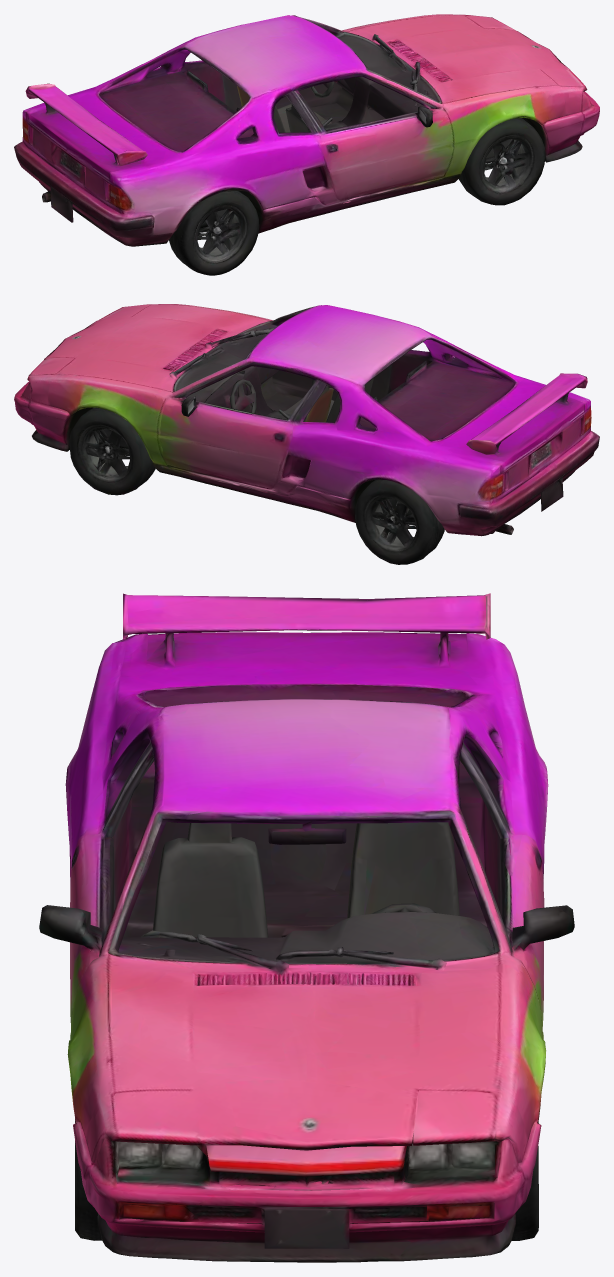
The model's file is car_pink.glb.
3 renders of one model, top to bottom at view 1: azimuth 30°, elevation 25°; view 2: azimuth 150°, elevation 25°; view 3: azimuth 270°, elevation 25°, orthographic. The views are drawn at different scales.
Parts seen in each view (by area): view 1: tripo_node_2bb15495-473c-45b3-a70c-b51d6a240c18; view 2: tripo_node_2bb15495-473c-45b3-a70c-b51d6a240c18; view 3: tripo_node_2bb15495-473c-45b3-a70c-b51d6a240c18.
Part boxes in pixels (x1,y1,x2,y2): tripo_node_2bb15495-473c-45b3-a70c-b51d6a240c18: (14, 14, 599, 275); tripo_node_2bb15495-473c-45b3-a70c-b51d6a240c18: (14, 304, 599, 564); tripo_node_2bb15495-473c-45b3-a70c-b51d6a240c18: (39, 593, 574, 1262).
Size of the model in its own units: 0.9739 by 0.2967 by 0.4529.
1 material, 1 textured.
